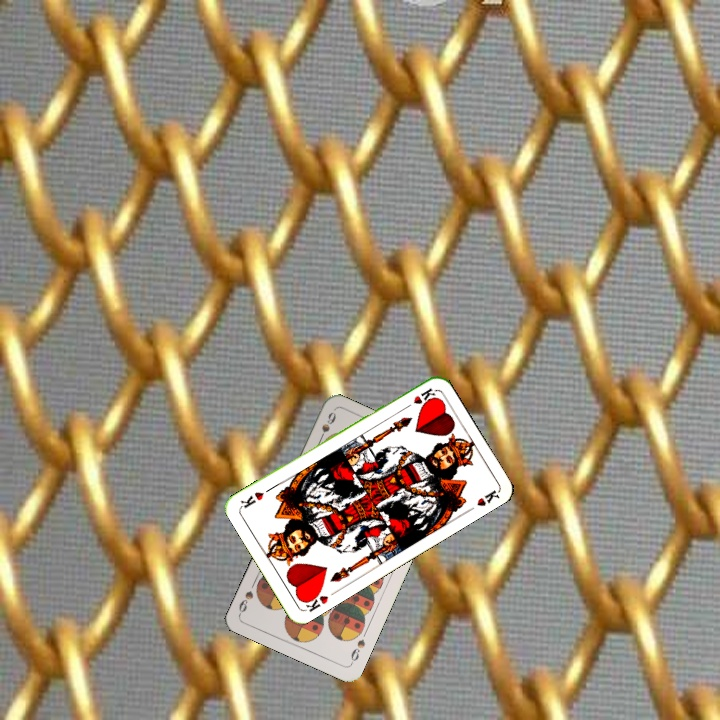HK: (400, 384, 438, 412), (299, 587, 331, 615)
S9: (314, 408, 339, 446), (347, 635, 368, 667)
